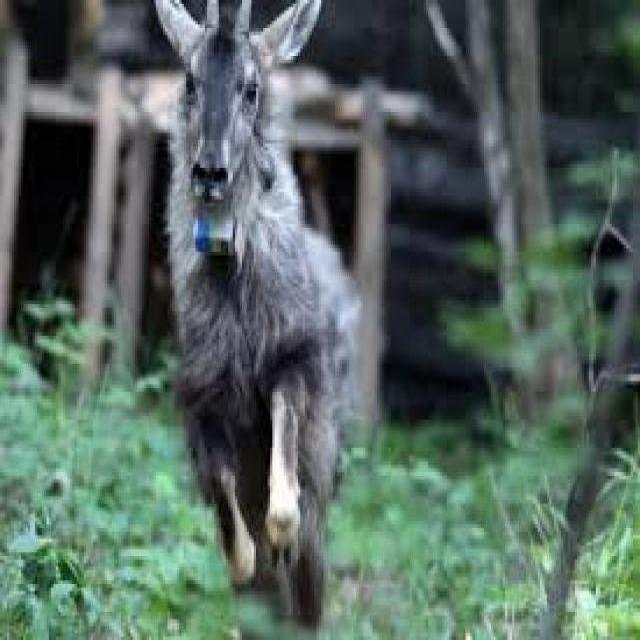deer: (141, 1, 353, 612)
